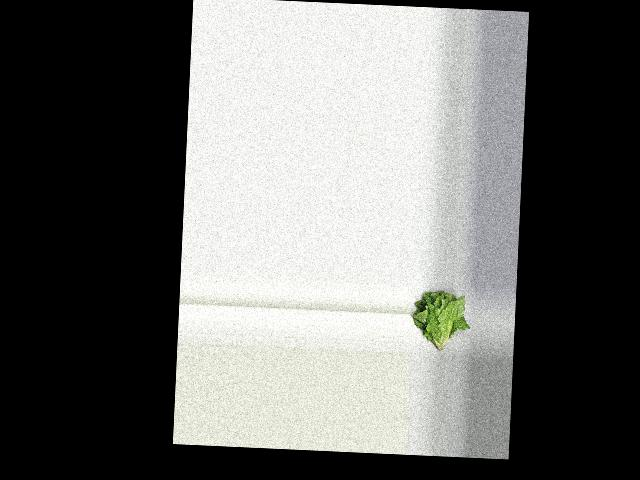lettuce: (411, 286, 466, 354)
